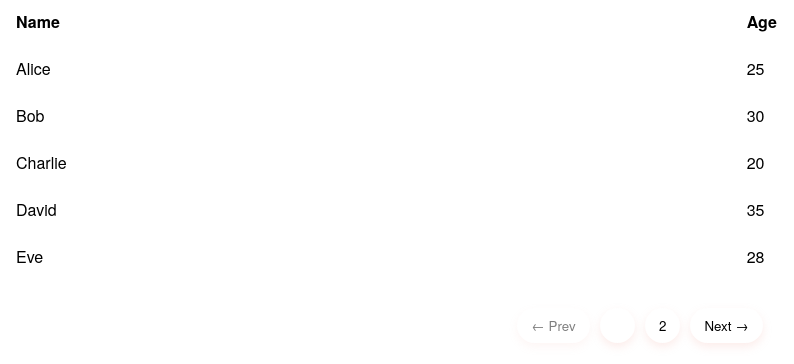
Test case: JazzieTable Component › renders second page rows correctly
This screenshot has width=794, height=364.
Click the button "2".
click(663, 326)  # box x1=645 y1=308 x2=680 y2=343
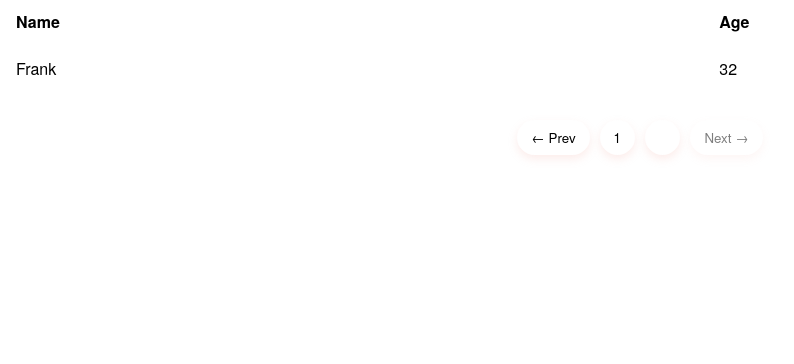
Expected: the text "Frank" is shown, x1=0 y1=45 x2=703 y2=92
Expected: the text "Alice" is gone
